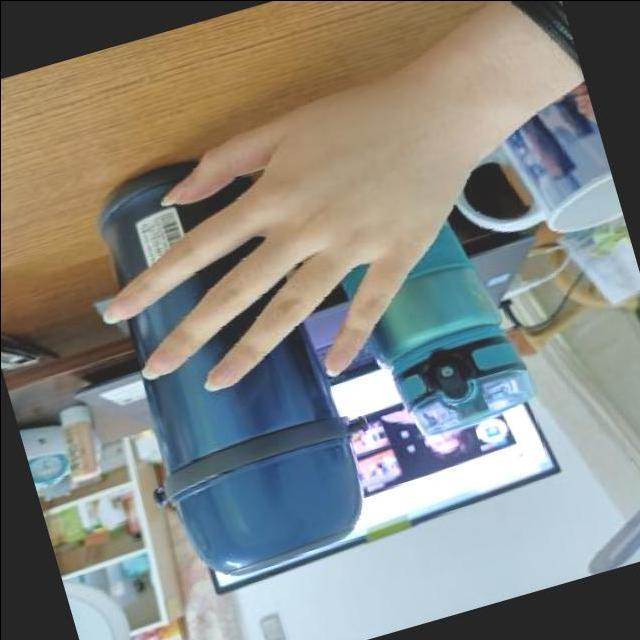Hand: (84, 67, 501, 396)
